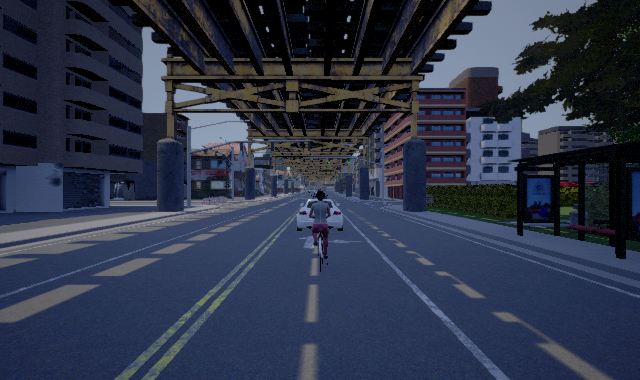bike: (308, 191, 331, 273)
traffic_light: (348, 158, 350, 163), (328, 158, 330, 163)
vehicle: (296, 196, 346, 231)
